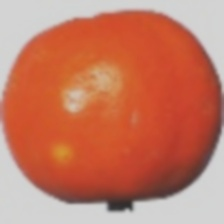tangerine: (25, 11, 190, 204)
